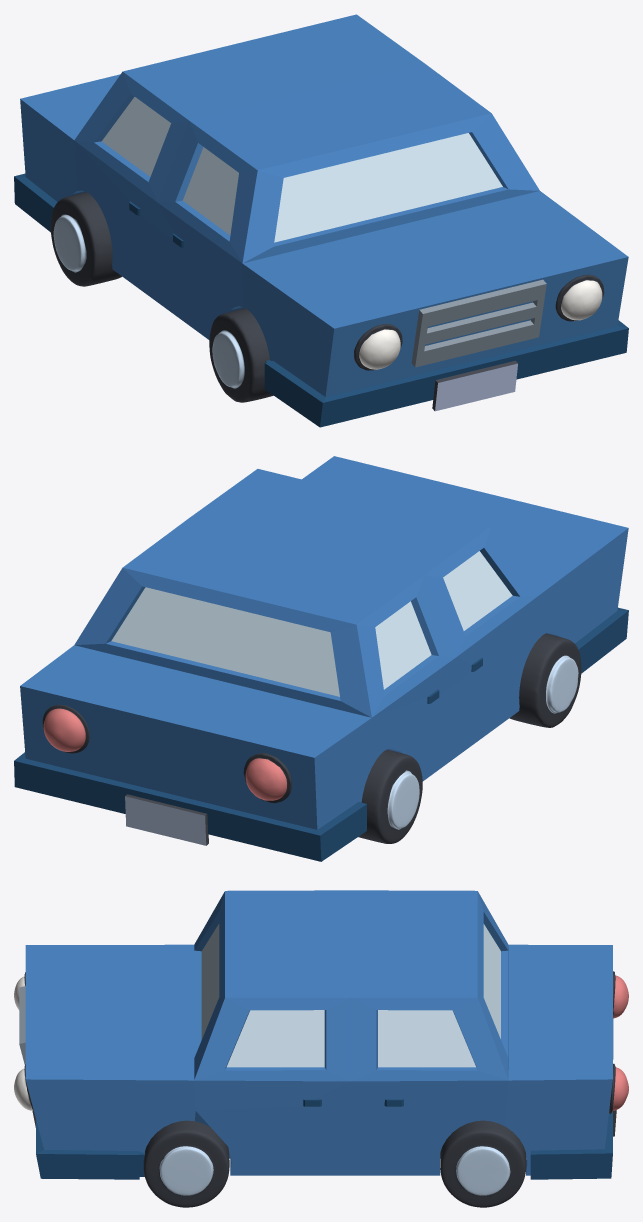
File: blue_car.fbx
The picture shows the model from 3 angles, top to bottom: view 1: azimuth 30°, elevation 25°; view 2: azimuth 150°, elevation 25°; view 3: azimuth 270°, elevation 25°; orthographic projection. The views are drawn at different scales.
Visible parts, largest first — view 1: car, wheels, plate; view 2: car, wheels, plate; view 3: car, wheels, plate.
Part boxes in pixels (left/top/right/bottom): car: left=14, top=14, right=628, bottom=427; wheels: left=50, top=192, right=604, bottom=402; plate: left=411, top=279, right=546, bottom=411; car: left=14, top=456, right=628, bottom=861; wheels: left=42, top=633, right=581, bottom=843; plate: left=125, top=794, right=208, bottom=845; car: left=25, top=890, right=613, bottom=1179; wheels: left=14, top=971, right=628, bottom=1207; plate: left=19, top=986, right=616, bottom=1136.
Bounding box in the file's own units: 235 × 135 × 395.
